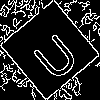U: (25, 25, 82, 84)
